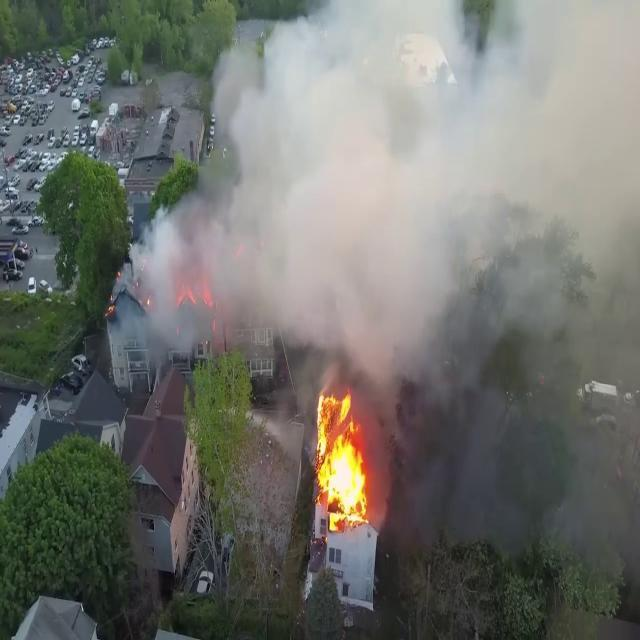Fire: (311, 384, 373, 524)
Smoke: (129, 0, 639, 414)
